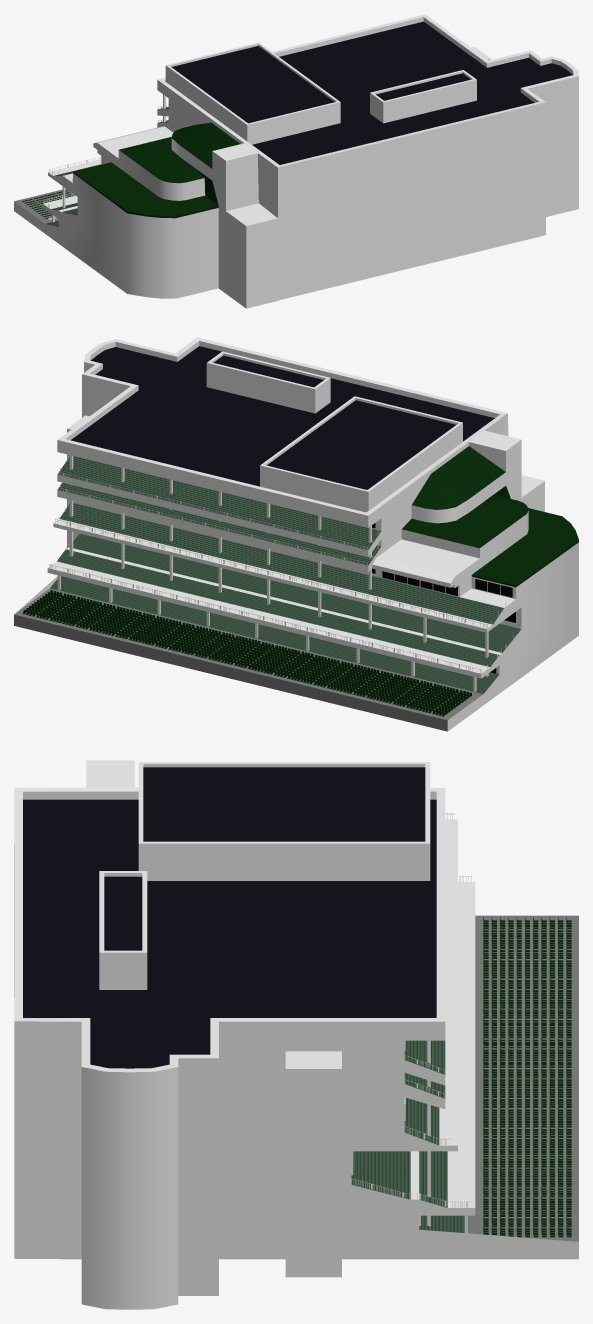
Rendered from subbuilding01.fbx.
The picture shows the model from 3 angles, top to bottom: view 1: azimuth 30°, elevation 25°; view 2: azimuth 150°, elevation 25°; view 3: azimuth 270°, elevation 25°; orthographic projection. The views are drawn at different scales.
Parts seen in each view (by area): view 1: Sub_building; view 2: Sub_building; view 3: Sub_building.
Part boxes in pixels (left/top/right/bottom): Sub_building: left=14, top=14, right=578, bottom=308; Sub_building: left=14, top=337, right=578, bottom=731; Sub_building: left=14, top=760, right=578, bottom=1309.
Size of the model in its own units: 11739 by 3882 by 7443.
